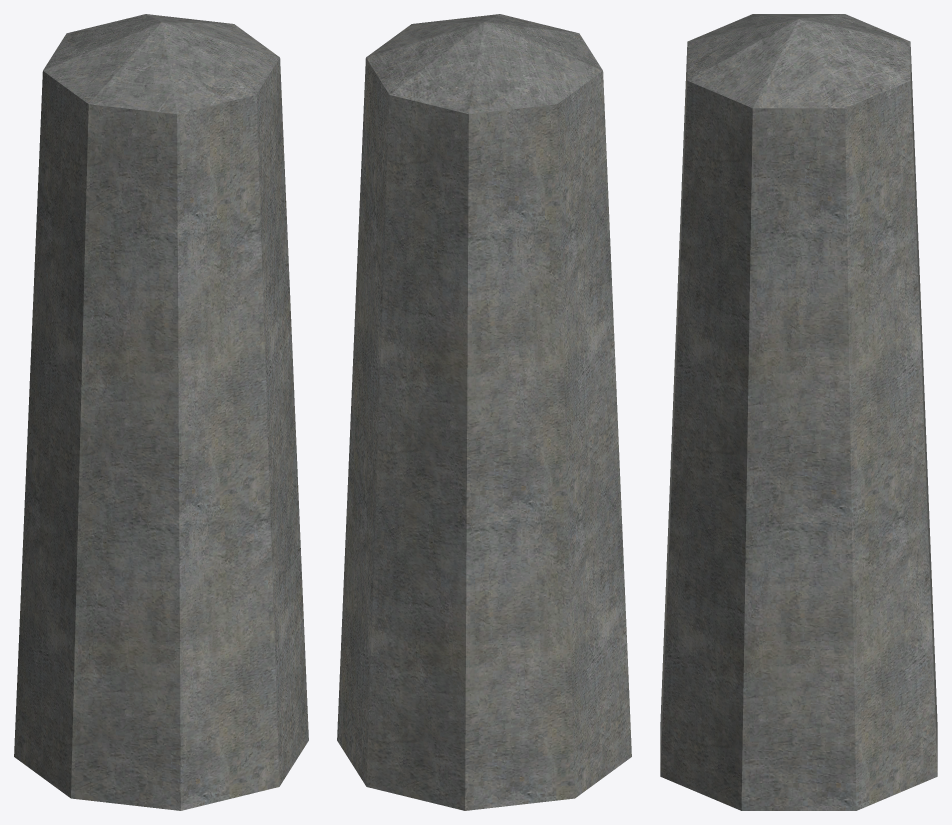
Rendered from mun_all_military_column_med_impl_s01_l1.fbx.
3 renders of one model, left to right at view 1: azimuth 30°, elevation 25°; view 2: azimuth 150°, elevation 25°; view 3: azimuth 270°, elevation 25°, orthographic.
Parts seen in each view (by area): view 1: mesh_node; view 2: mesh_node; view 3: mesh_node.
Part boxes in pixels (x1=…): mesh_node: x1=14, y1=14, x2=308, y2=810; mesh_node: x1=337, y1=14, x2=631, y2=810; mesh_node: x1=660, y1=14, x2=937, y2=810.
Size of the model in its own units: 2.23 by 6.5 by 2.23.
